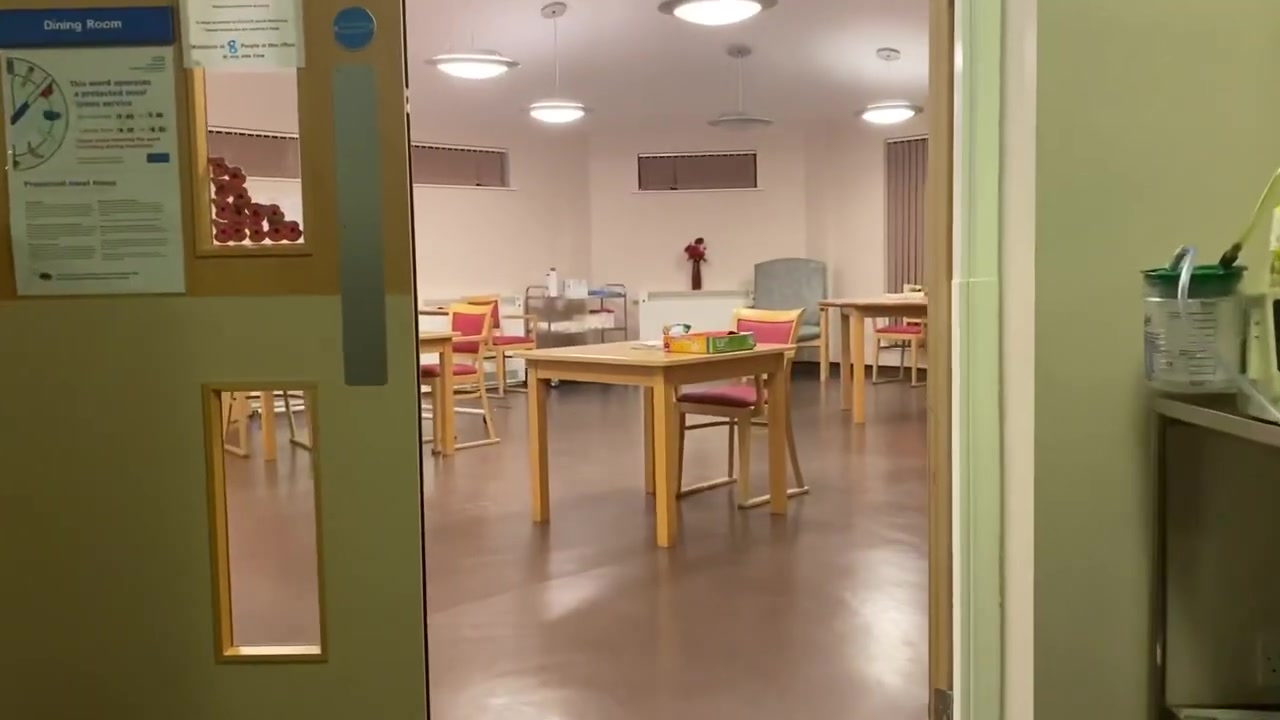chair: (669, 307, 810, 509), (419, 302, 501, 452), (752, 257, 830, 385), (462, 293, 536, 397), (872, 315, 927, 387)
medical_drawer: (1146, 384, 1280, 720)
table: (504, 341, 797, 548), (818, 296, 928, 423), (417, 331, 461, 456)
utility_cart: (525, 283, 630, 388)
